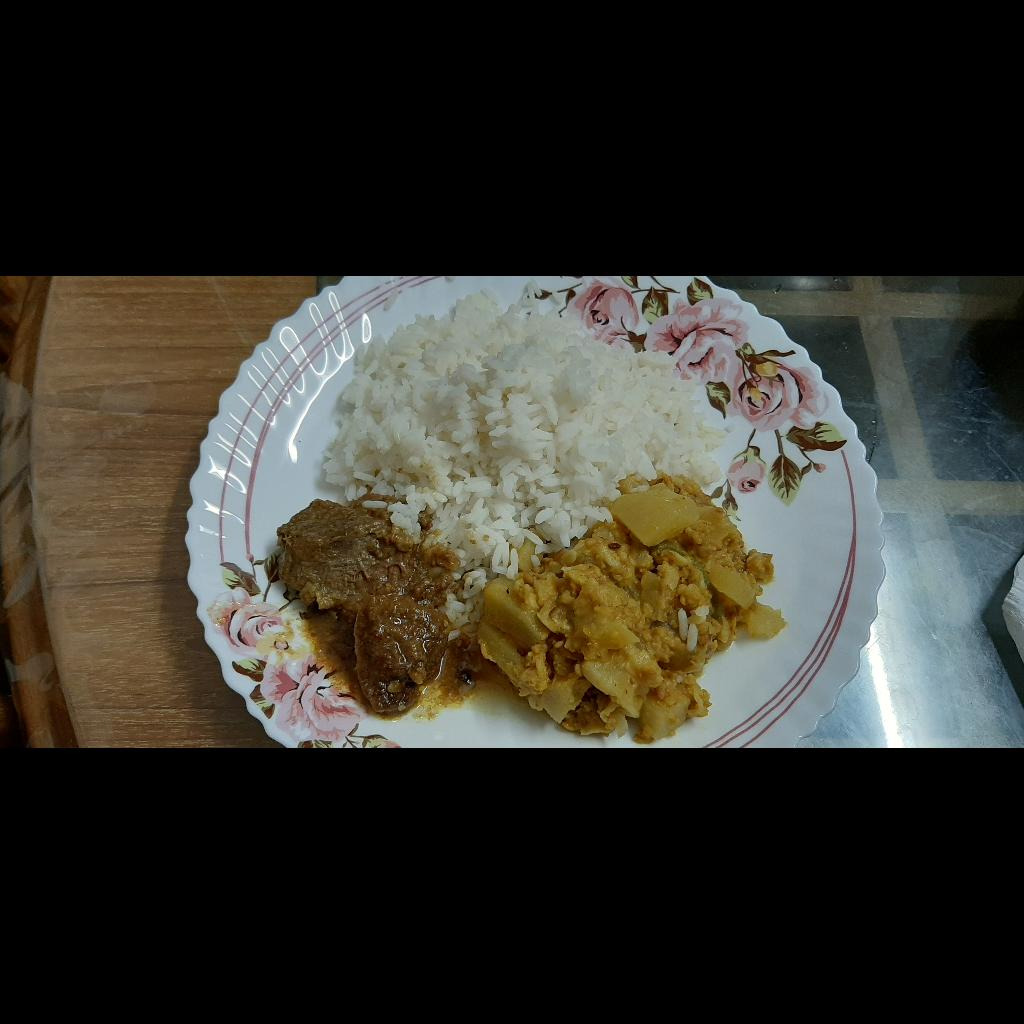beef: (275, 495, 459, 715)
kumra-vaji: (480, 470, 784, 744)
rice: (323, 277, 733, 634)
